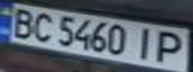0: (106, 21, 130, 56)
4: (72, 17, 93, 52)
5: (51, 14, 78, 47)
6: (87, 19, 112, 54)
B: (3, 6, 39, 38)
C: (27, 10, 57, 43)
I: (130, 25, 160, 61)
P: (151, 28, 190, 65)
